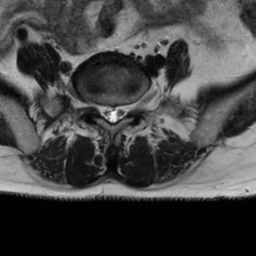CCS_normal: (109, 96, 117, 128)
LFS_normal: (128, 96, 138, 121)
LLS_normal: (119, 98, 127, 123)
RFS_stenosis: (88, 94, 99, 118)
RLS_normal: (99, 97, 109, 124)
